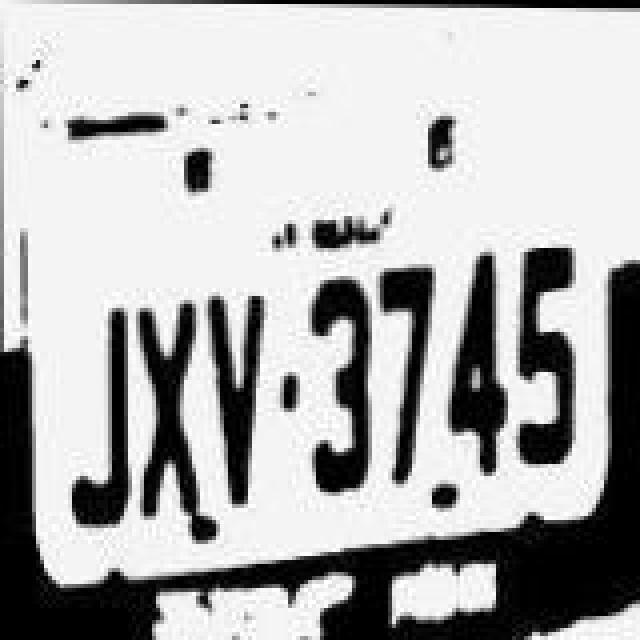3: (300, 274, 376, 502)
4: (442, 240, 506, 476)
5: (512, 240, 588, 484)
7: (376, 260, 444, 484)
J: (66, 292, 138, 520)
V: (210, 288, 282, 508)
X: (138, 288, 202, 516)
